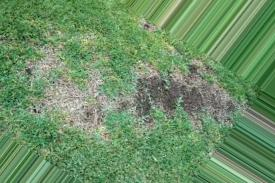patch: (67, 87, 83, 117), (55, 86, 72, 107), (88, 95, 98, 120), (89, 80, 98, 91)
